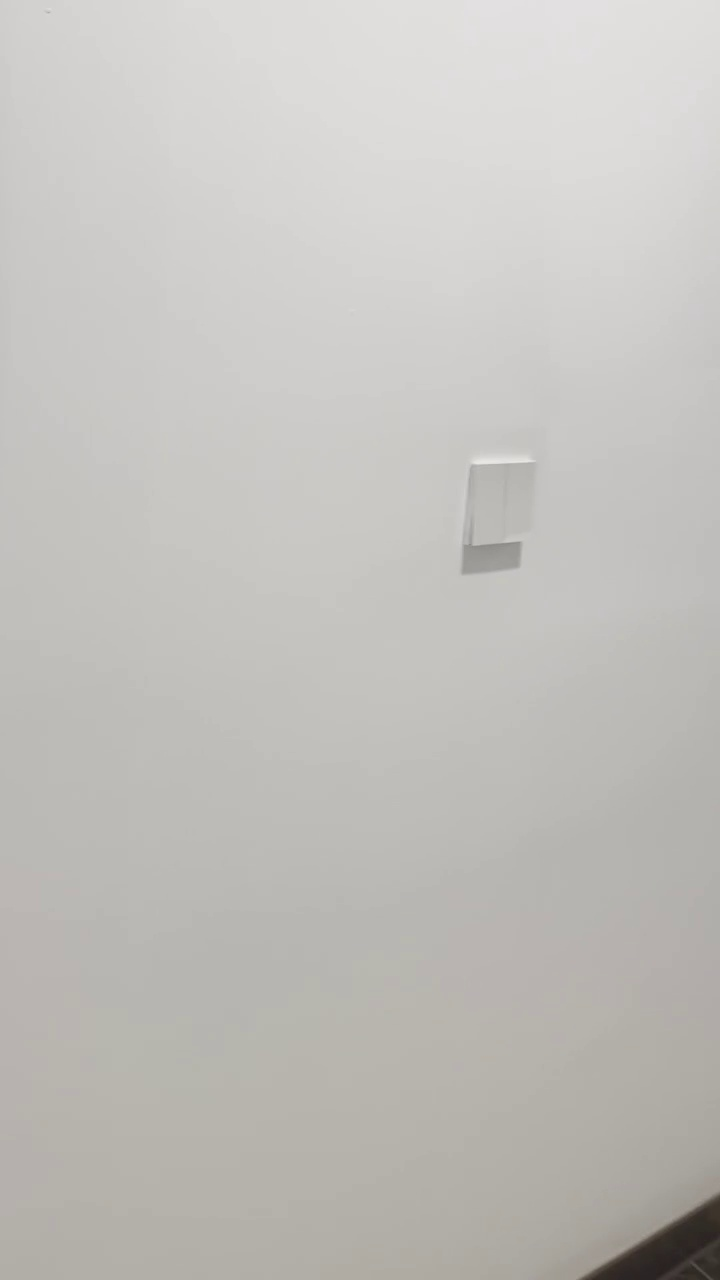button: (465, 455, 539, 546)
